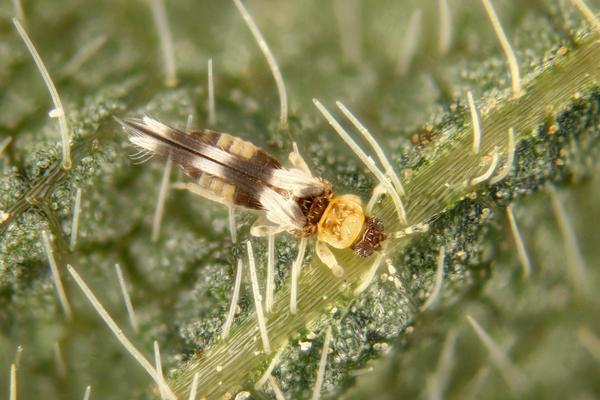Thrips: (109, 96, 405, 309)
